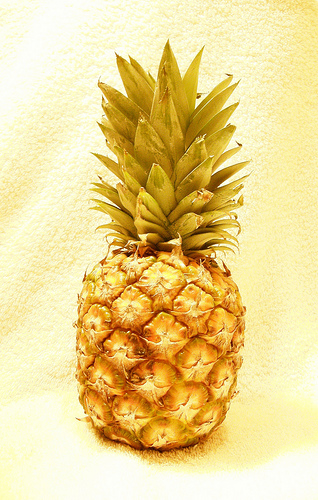pineapple: (70, 35, 251, 451)
